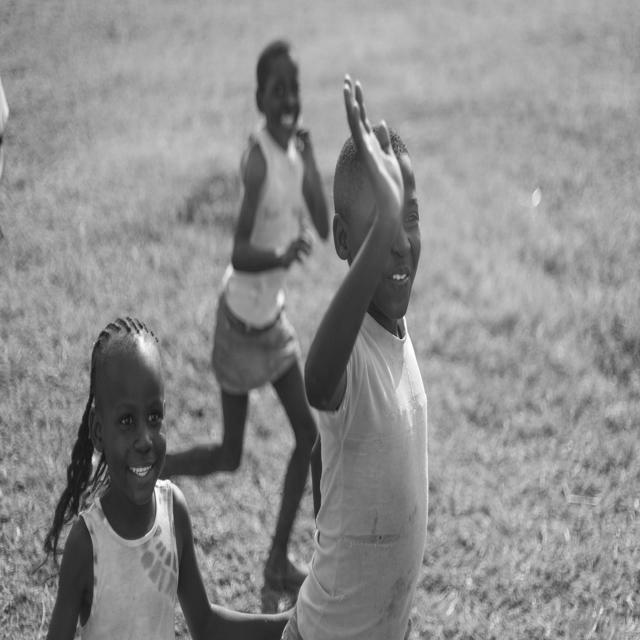Happiness: (96, 337, 167, 506)
